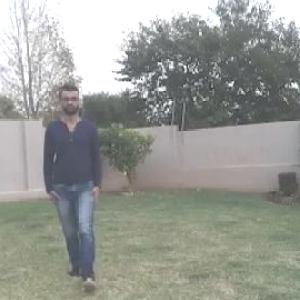follow: (46, 87, 106, 273)
